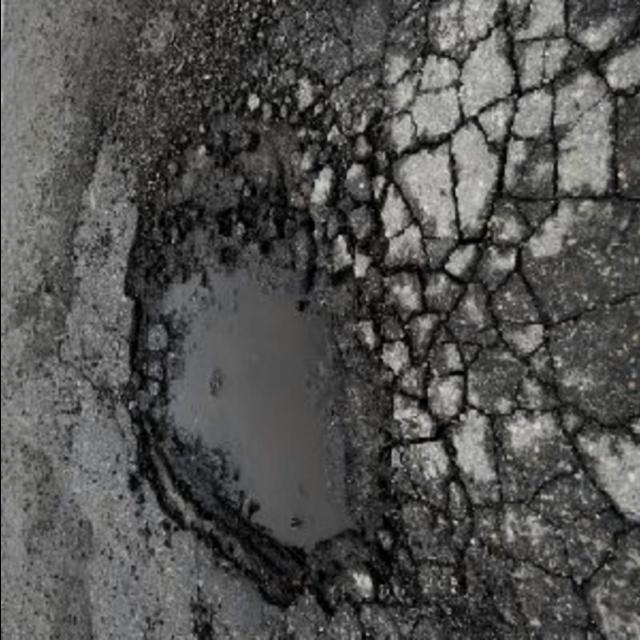pothole: (115, 111, 407, 640)
